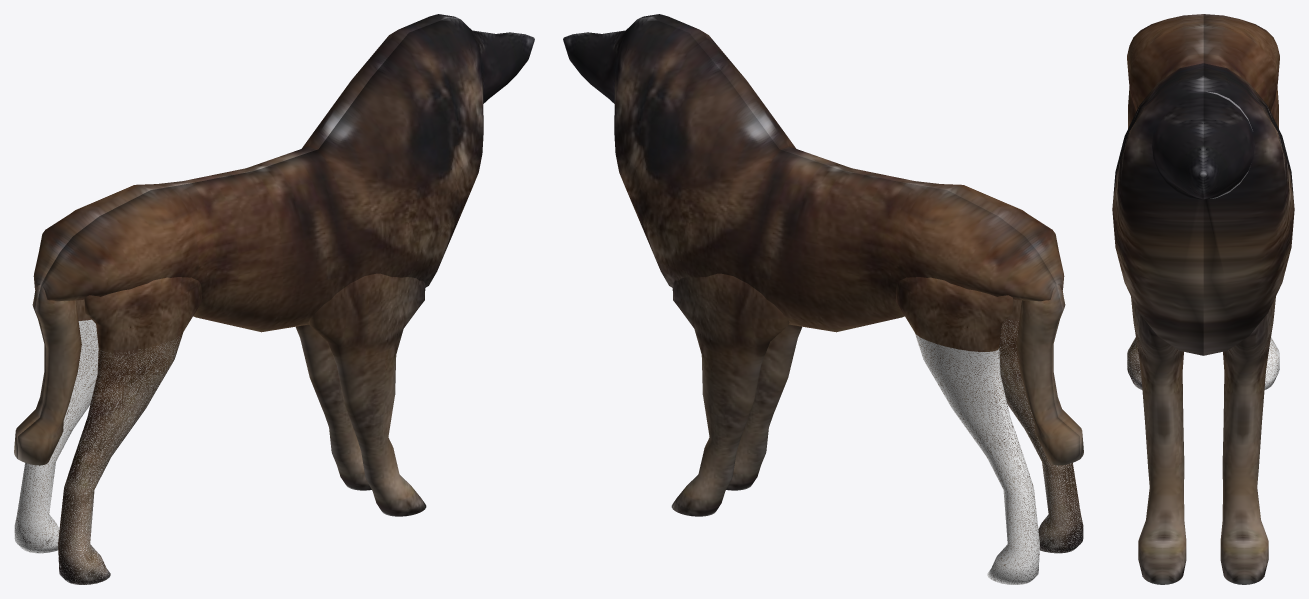
File: dog.dae
The picture shows the model from 3 angles, left to right: view 1: azimuth 30°, elevation 25°; view 2: azimuth 150°, elevation 25°; view 3: azimuth 270°, elevation 25°; orthographic projection. The views are drawn at different scales.
Parts seen in each view (by area): view 1: SketchUp (×8); view 2: SketchUp (×8); view 3: SketchUp (×6).
Boxes of the visible parts, x1=… form: SketchUp (×8): x1=14, y1=14, x2=534, y2=584; SketchUp (×8): x1=563, y1=14, x2=1083, y2=584; SketchUp (×6): x1=1112, y1=14, x2=1294, y2=584.
Bounding box in the file's own units: 9.98 × 2.67 × 8.55.
2 materials, 1 textured.
